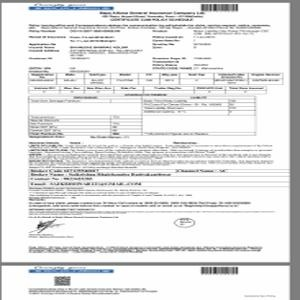image: (27, 3, 114, 10)
table: (28, 94, 257, 137), (28, 70, 284, 85)
text: (28, 23, 272, 71), (28, 140, 276, 168), (97, 10, 205, 23)
